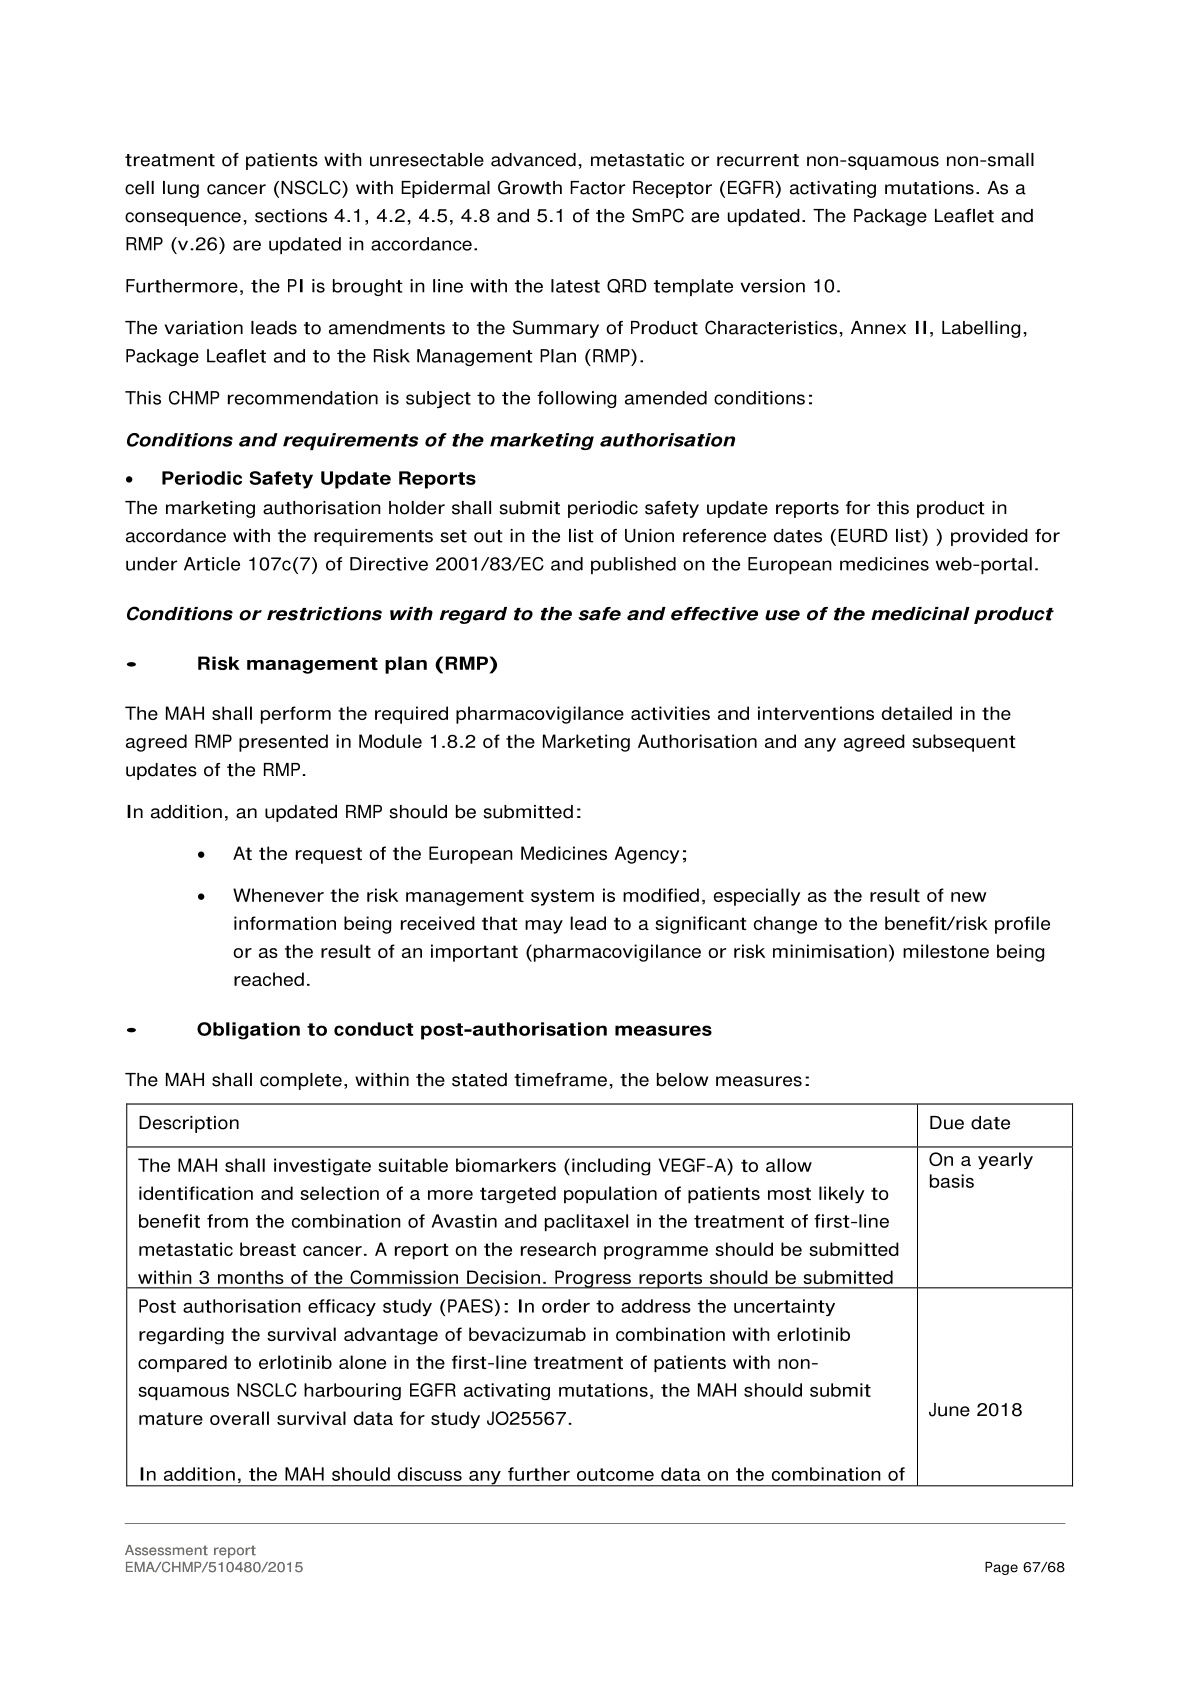full_lined: (125, 1101, 1074, 1488)
